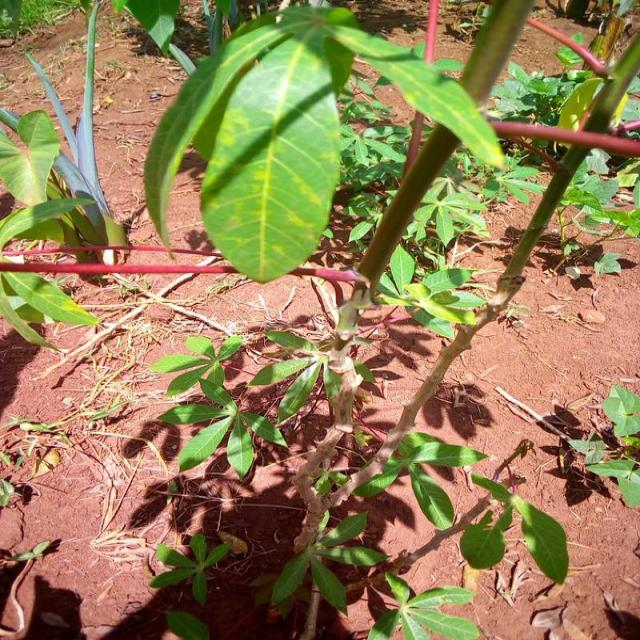cassava leaf: (198, 28, 343, 282)
